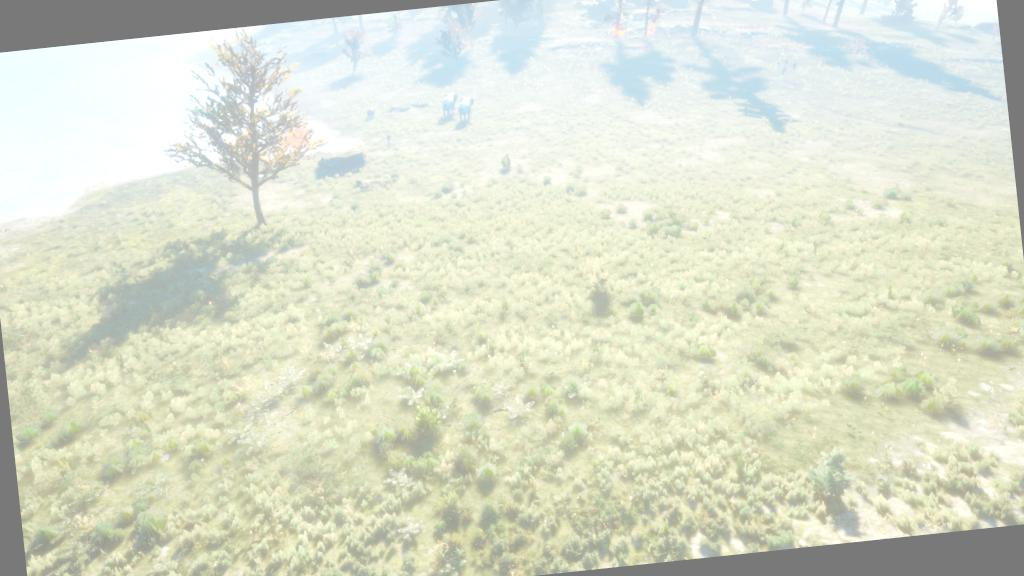Fire: (280, 120, 320, 161), (644, 18, 664, 42), (612, 18, 628, 40)
elephant: (452, 94, 479, 120), (439, 90, 462, 118), (362, 105, 378, 120)
human: (382, 130, 394, 146)
